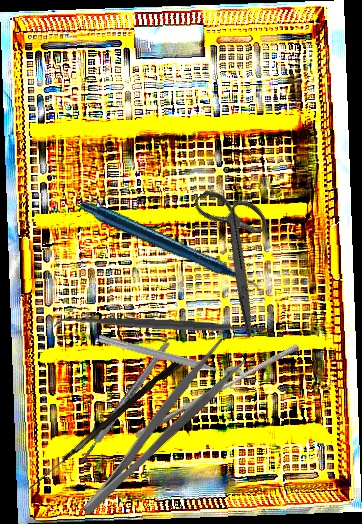Dressing Forceps: (65, 336, 249, 520)
Fixation Ring: (94, 330, 246, 393)
Handpiece: (77, 146, 265, 355)
Hook Surgical: (28, 355, 184, 497)
Iris Scissors: (154, 172, 319, 339)
Pusher: (133, 337, 301, 445)
Scalpel Handle: (76, 339, 173, 467)
Spatula Surgical: (53, 307, 275, 343)
